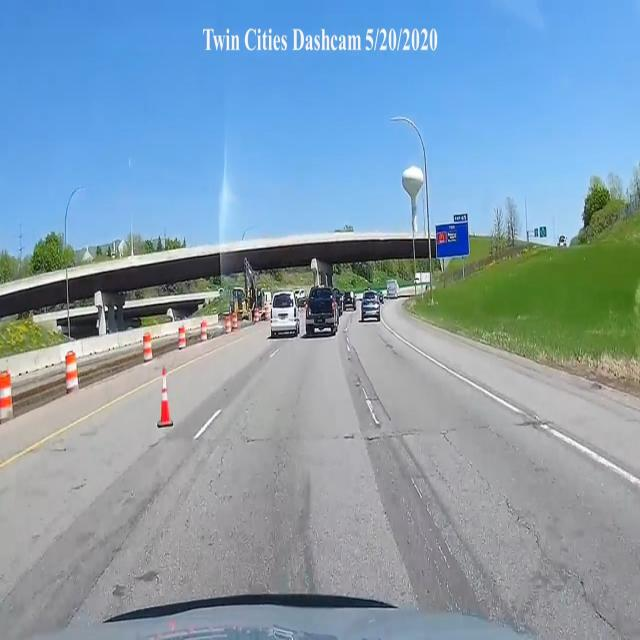Traffic Cone: (152, 359, 176, 432)
